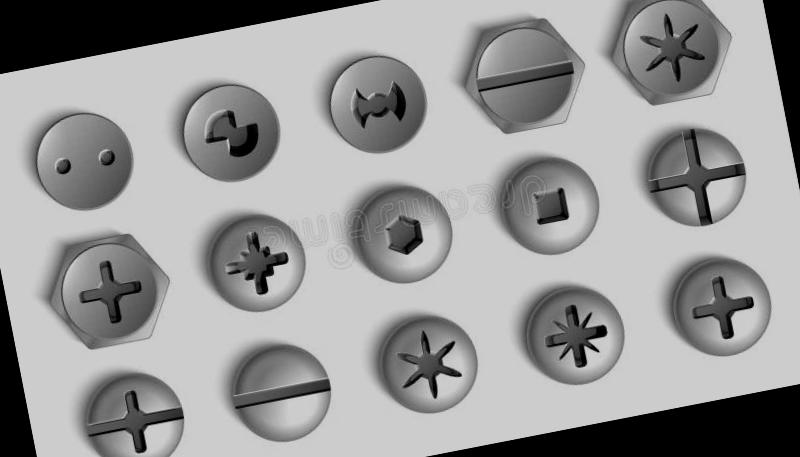screw: (451, 10, 595, 142)
